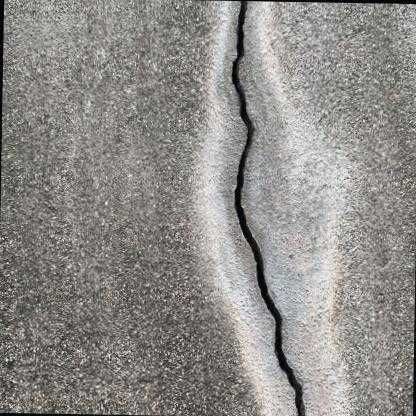crack: (227, 0, 308, 416)
